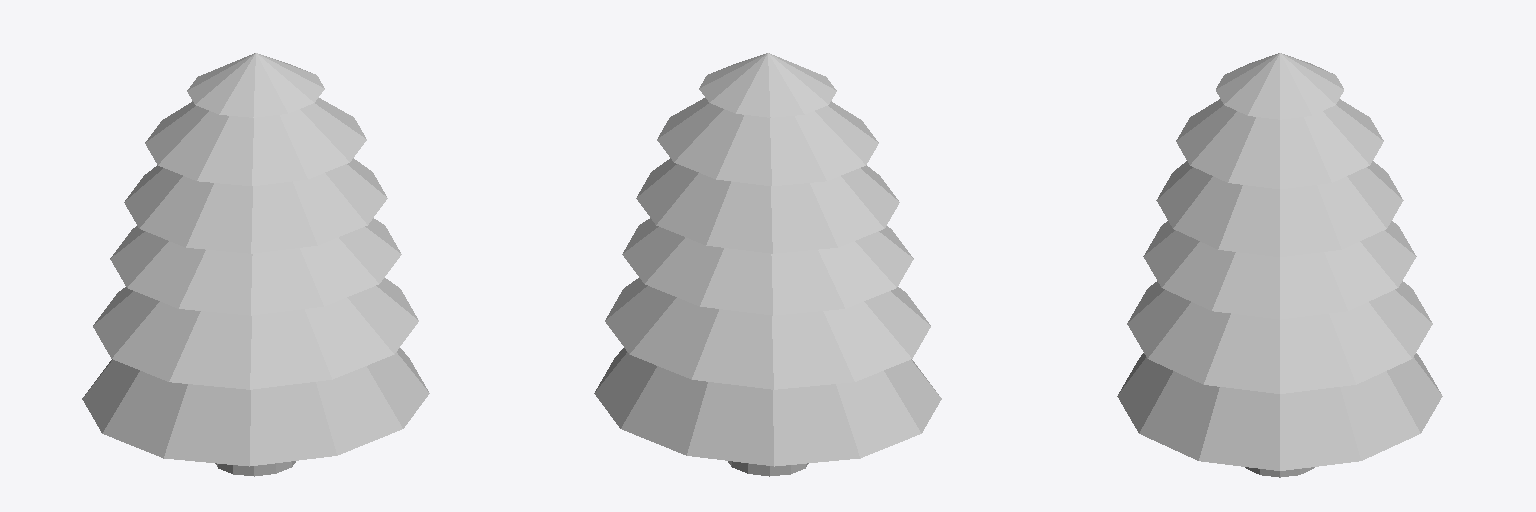
The model's file is tree.obj.
The picture shows the model from 3 angles: view 1: azimuth 30°, elevation 25°; view 2: azimuth 150°, elevation 25°; view 3: azimuth 270°, elevation 25°; orthographic projection.
Visible parts, largest first — view 1: Cylinder; view 2: Cylinder; view 3: Cylinder.
Boxes of the visible parts, x1=… form: Cylinder: x1=82, y1=53, x2=429, y2=476; Cylinder: x1=594, y1=53, x2=941, y2=476; Cylinder: x1=1117, y1=53, x2=1442, y2=477.
Size of the model in its own units: 0.8272 by 1.04 by 0.7585.